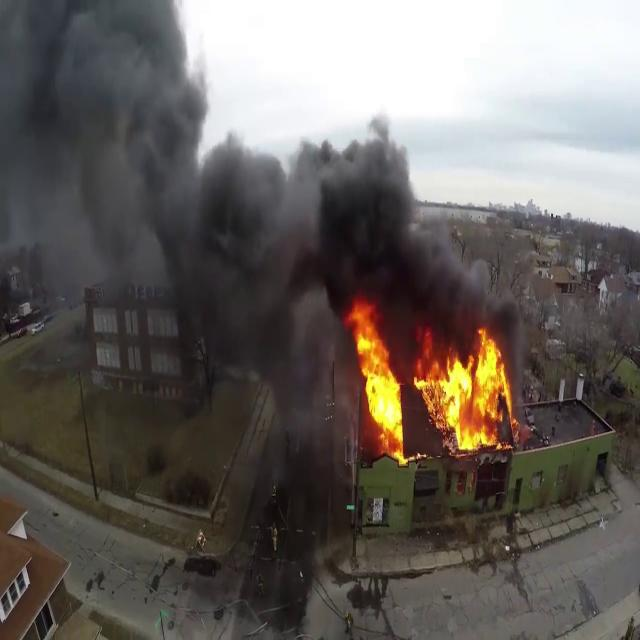Fire: (349, 306, 515, 460)
Smoke: (188, 100, 524, 363), (0, 0, 188, 330)
